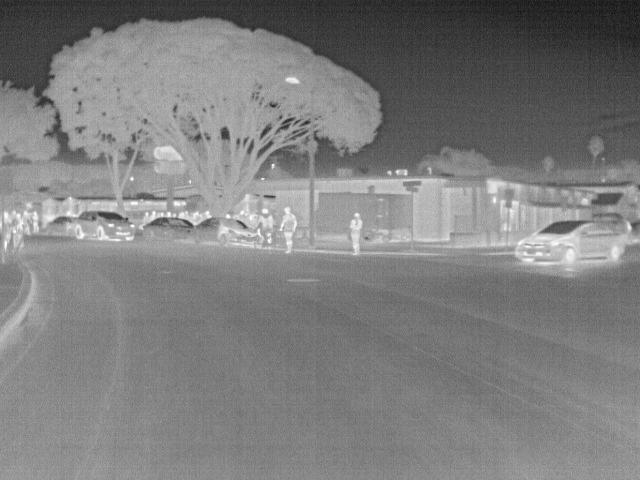car: (515, 219, 629, 269), (192, 216, 258, 250), (74, 212, 138, 242), (143, 216, 198, 244), (40, 214, 80, 235)
person: (279, 204, 298, 252), (347, 211, 364, 256), (257, 206, 274, 248), (12, 213, 26, 248), (4, 210, 14, 252), (31, 210, 43, 232), (140, 210, 154, 227), (200, 209, 213, 223), (148, 209, 161, 223)
